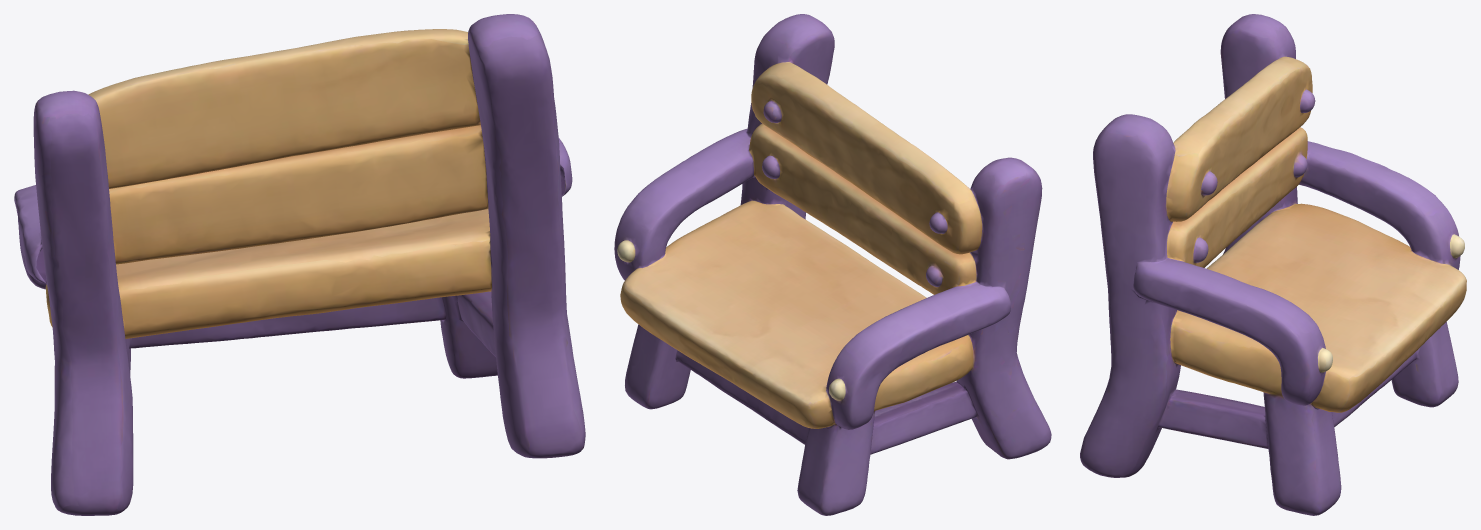
Rendered from item_bench.glb.
3 views of the same model, side by side, from view 1: azimuth 30°, elevation 25°; view 2: azimuth 150°, elevation 25°; view 3: azimuth 270°, elevation 25° (orthographic). The views are drawn at different scales.
Parts seen in each view (by area): view 1: geometry_0; view 2: geometry_0; view 3: geometry_0.
Boxes of the visible parts, <box> form: geometry_0: <box>14,14,585,515</box>; geometry_0: <box>614,14,1051,515</box>; geometry_0: <box>1080,14,1466,515</box>.
Size of the model in its own units: 0.9039 by 0.7524 by 0.7221.
Materials: 1 (1 with a texture image).
